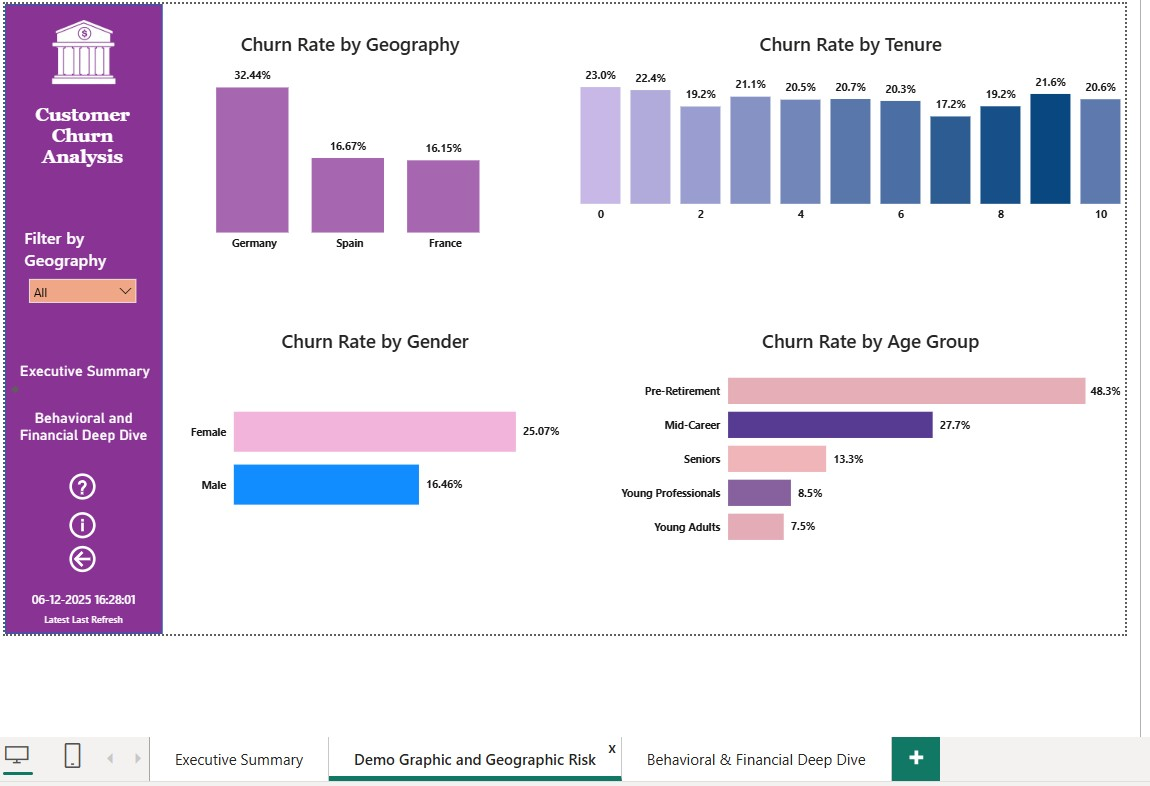

The dashboard page shown, as its layout file describes it:
{"tool":"powerbi","page":{"name":"Demo Graphic and Geographic Risk","canvas":[1280,720],"ordinal":1},"visuals":[{"type":"image","box":[0,531,94,88],"z":0},{"type":"shape","box":[0,0,180,720],"z":1000},{"type":"textbox","box":[0,110,177,83],"z":2000},{"type":"image","box":[0,0,180,110],"z":3000},{"type":"card","fields":{"Values":["Max(Query2.Last Refresh)"]},"box":[0,665,180,51],"z":4000},{"type":"columnChart","title":"Churn Rate by Geography","fields":{"Category":["Churn_Modelling.Geography"],"Y":["Churn_Modelling.Segment Churn Rate","select"]},"box":[192.9,30,402.9,261.4],"z":5000},{"type":"barChart","title":"Churn Rate by Gender","fields":{"Category":["Churn_Modelling.Gender"],"Y":["Churn_Modelling.Segment Churn Rate"]},"box":[205.7,370,434.3,264.3],"z":6000},{"type":"clusteredColumnChart","title":"Churn Rate by Tenure","fields":{"Category":["Churn_Modelling.Tenure"],"Y":["Churn_Modelling.Segment Churn Rate"]},"box":[652.9,30,627.1,228.6],"z":7000},{"type":"barChart","title":"Churn Rate by Age Group","fields":{"Category":["Churn_Modelling.Age Group"],"Y":["Churn_Modelling.Segment Churn Rate"]},"box":[698.6,370,581.4,264.3],"z":8000},{"type":"actionButton","title":"Behavioral and Financial Deep Dive","box":[1.4,462.9,177.1,40],"z":9000},{"type":"actionButton","title":"Executive Summary","box":[2.9,408.6,177.1,40],"z":10000},{"type":"actionButton","box":[68.6,614.3,41.4,40],"z":10001},{"type":"actionButton","box":[68.6,575.7,41.4,40],"z":10002},{"type":"actionButton","box":[68.6,531.4,41.4,40],"z":10003},{"type":"slicer","title":"Filter by Geography","fields":{"Values":["Churn_Modelling.Geography"]},"box":[17.1,254.3,142.9,115.7],"z":10004}]}

Visuals, with their boxes on the page's 1280x720 design canvas (x1, y1, x2, y2). These are canvas units, not pixel positions in the 1150x786 screenshot, which may show the page scaled, cropped or inside an application window:
image: left=0, top=531, right=94, bottom=619
shape: left=0, top=0, right=180, bottom=720
textbox: left=0, top=110, right=177, bottom=193
image: left=0, top=0, right=180, bottom=110
card - Max(Query2.Last Refresh): left=0, top=665, right=180, bottom=716
"Churn Rate by Geography" columnChart: left=193, top=30, right=596, bottom=291
"Churn Rate by Gender" barChart: left=206, top=370, right=640, bottom=634
"Churn Rate by Tenure" clusteredColumnChart: left=653, top=30, right=1280, bottom=259
"Churn Rate by Age Group" barChart: left=699, top=370, right=1280, bottom=634
"Behavioral and Financial Deep Dive" actionButton: left=1, top=463, right=178, bottom=503
"Executive Summary" actionButton: left=3, top=409, right=180, bottom=449
actionButton: left=69, top=614, right=110, bottom=654
actionButton: left=69, top=576, right=110, bottom=616
actionButton: left=69, top=531, right=110, bottom=571
"Filter by Geography" slicer: left=17, top=254, right=160, bottom=370
